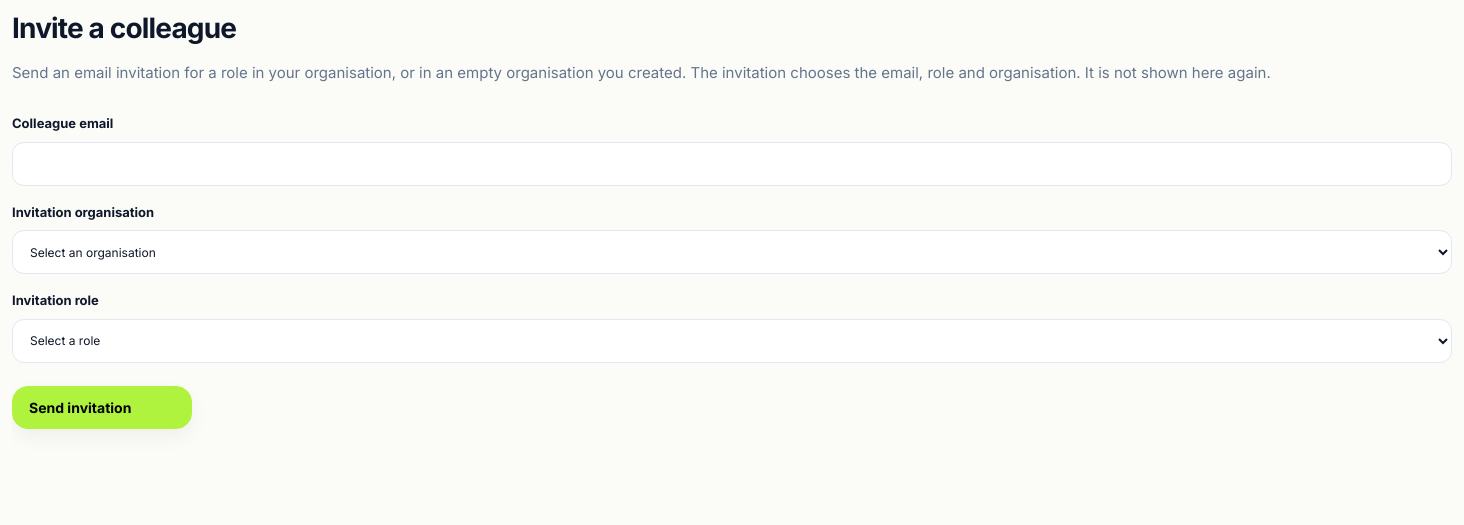
invite a colleague › requires an email, organisation and role before sending
Click the button "Send invitation": [102, 407] box [12, 386, 192, 428]
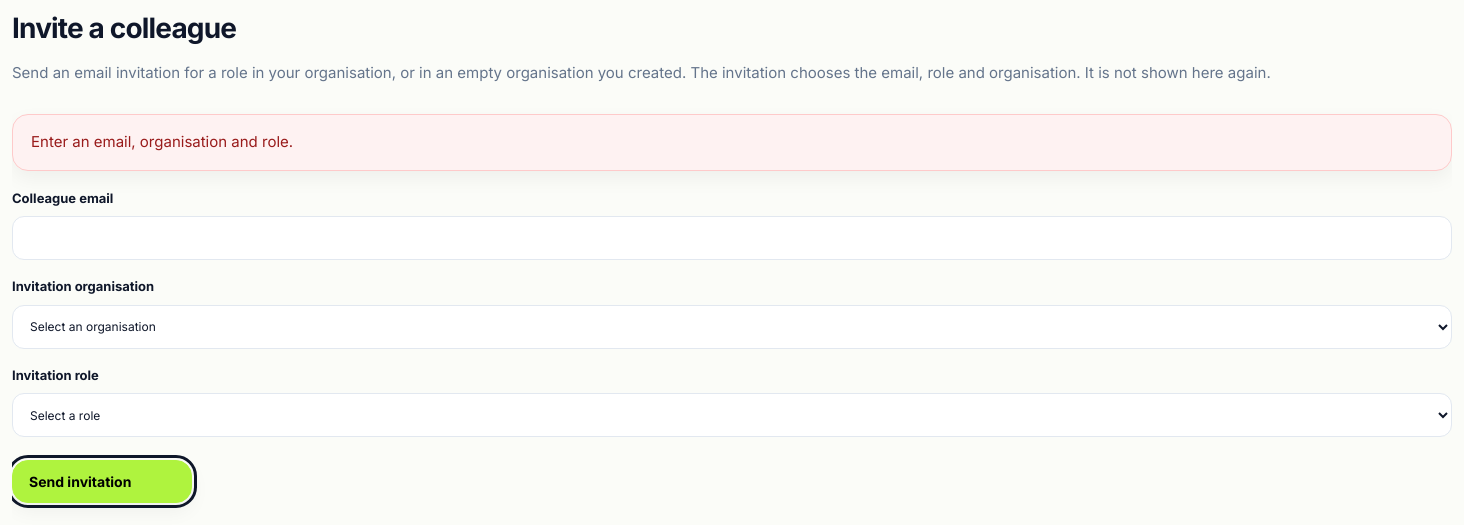
Expected: the message reads "Enter an email, organisation and role.", [31, 132, 293, 151]
